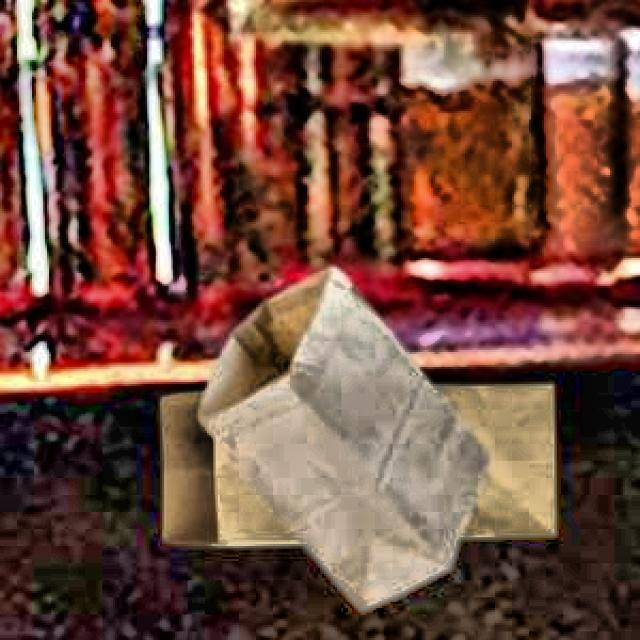Paper-bag: (201, 278, 488, 614), (150, 365, 566, 564)
